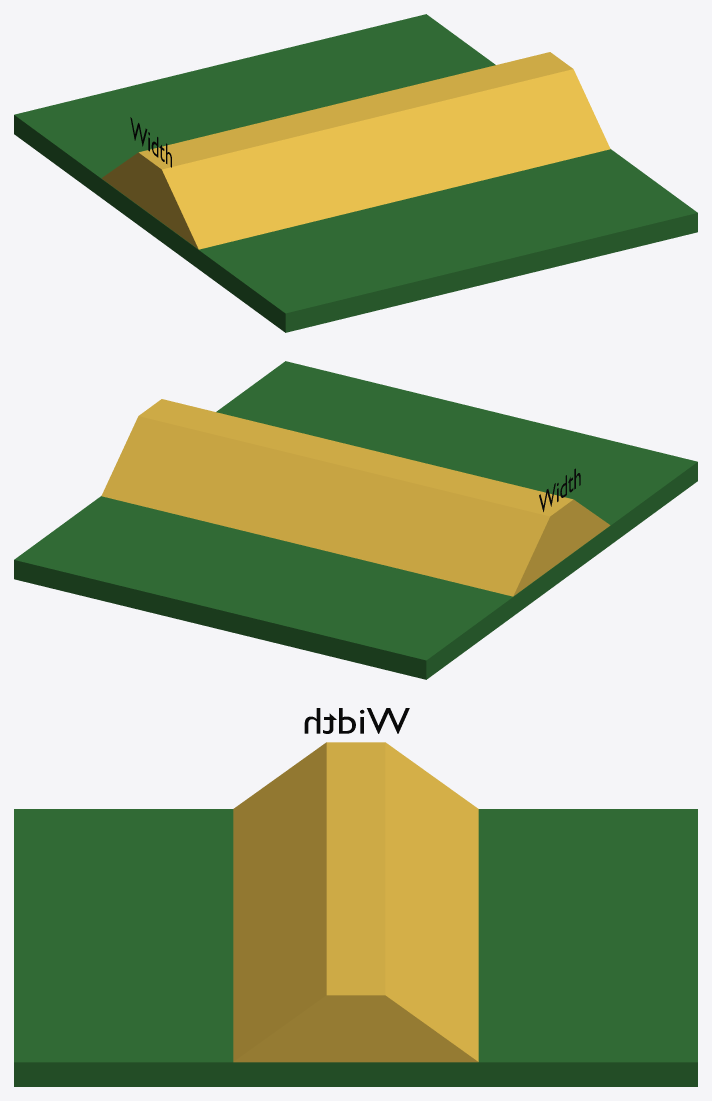
The model's file is rect3.gltf.
The picture shows the model from 3 angles, top to bottom: view 1: azimuth 30°, elevation 25°; view 2: azimuth 150°, elevation 25°; view 3: azimuth 270°, elevation 25°; orthographic projection. The views are drawn at different scales.
Parts seen in each view (by area): view 1: Cube.001, Cube; view 2: Cube.001, Cube; view 3: Cube.001, Cube, Width.
Part boxes in pixels (x1,y1,x2,y2): Cube.001: (14,14,697,332); Cube: (101,52,610,249); Cube.001: (14,361,697,679); Cube: (101,399,610,596); Cube.001: (14,809,697,1086); Cube: (233,742,478,1062); Width: (304,708,409,733).
Size of the model in its own units: 4.9 by 1.14 by 5.58.
